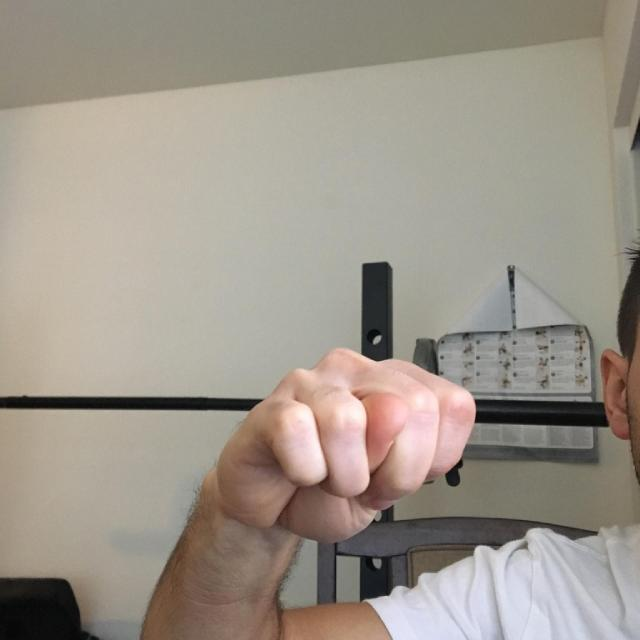N: (137, 265, 486, 630)
